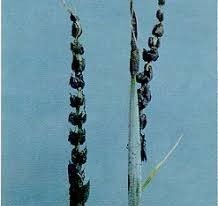Wheat Loose Smut: (62, 8, 97, 206)
